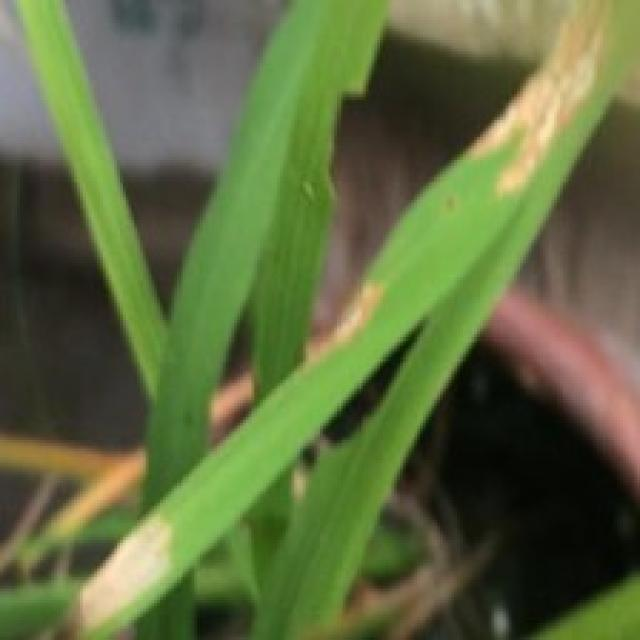Rice___Rice_Blast: (46, 0, 637, 637)
